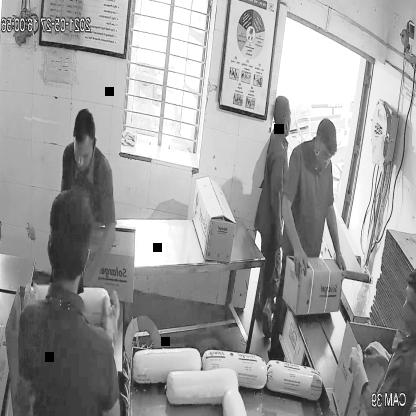no_goggles: (70, 145, 98, 165)
